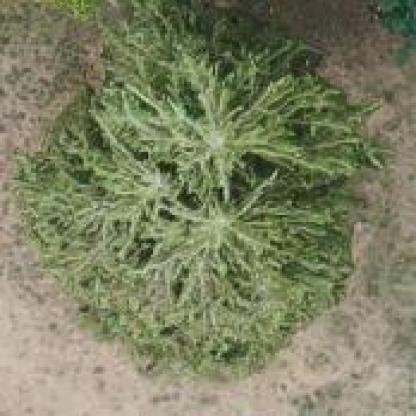Coniferous Tree: (23, 0, 374, 379)
